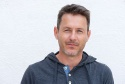male: (56, 8, 90, 58)
